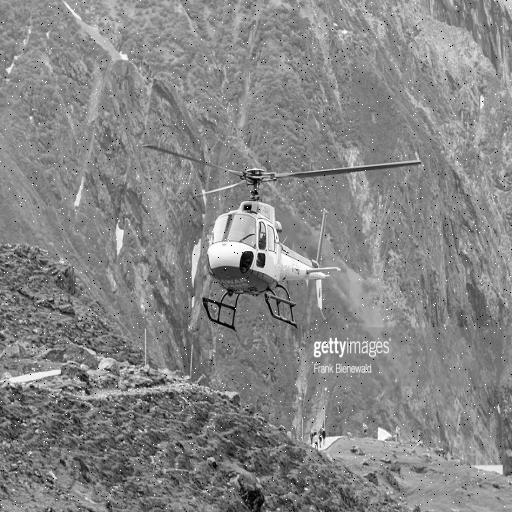helicopter: (148, 148, 416, 337)
